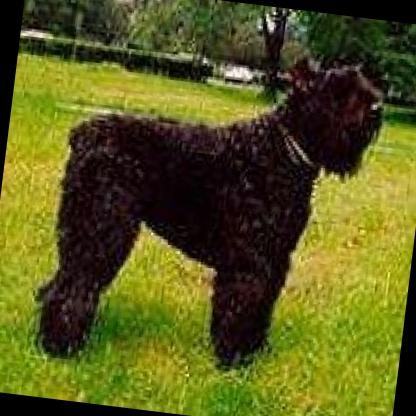Bouvier_des_Flandres: (23, 27, 386, 390)
